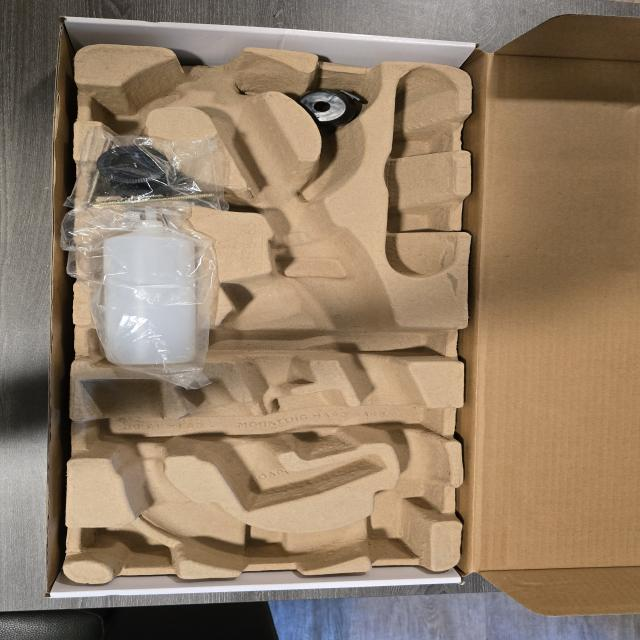1m: (79, 48, 446, 567)
2m: (174, 379, 383, 511)
3: (102, 203, 198, 368)
4m: (384, 67, 456, 278)
5: (293, 90, 365, 127)
6m: (93, 72, 186, 131)
7: (59, 126, 229, 211)
